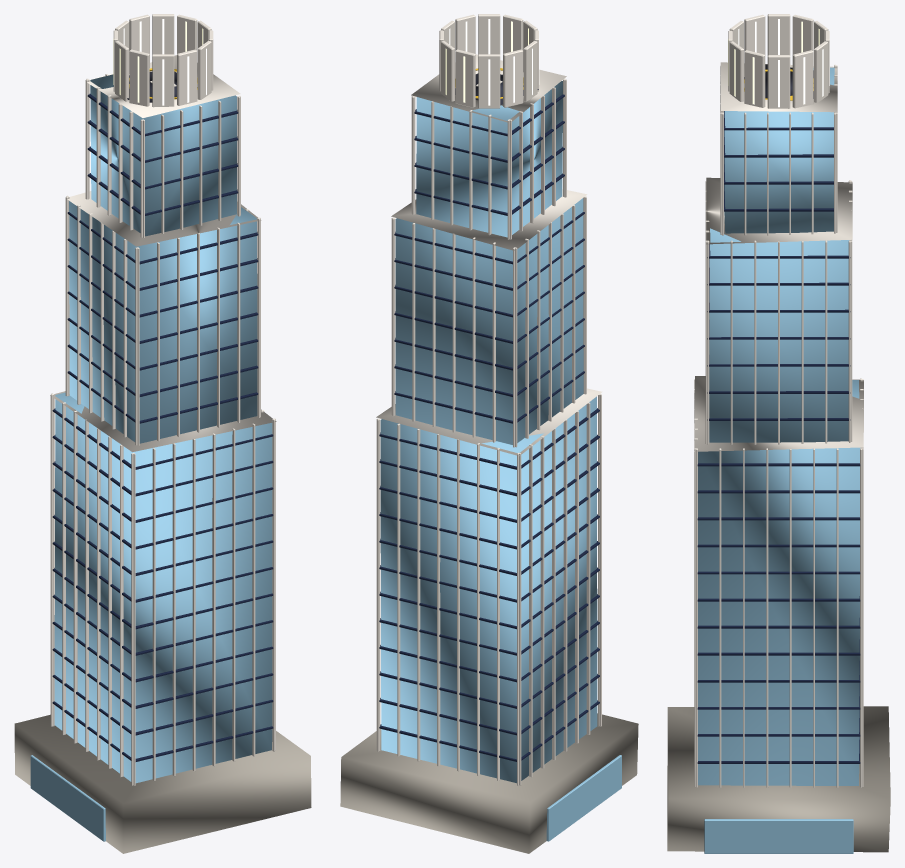
Rendered from glass_tower.glb.
The picture shows the model from 3 angles, left to right: view 1: azimuth 30°, elevation 25°; view 2: azimuth 150°, elevation 25°; view 3: azimuth 270°, elevation 25°; orthographic projection.
Visible parts, largest first — view 1: glass_tower; view 2: glass_tower; view 3: glass_tower.
Boxes of the visible parts, x1,y1,x2,y2 form: glass_tower: (14, 14, 311, 853); glass_tower: (340, 14, 638, 853); glass_tower: (667, 14, 890, 853).
Bounding box in the file's own units: 30.4 × 114 × 29.95.
Materials: 1 (1 with a texture image).
